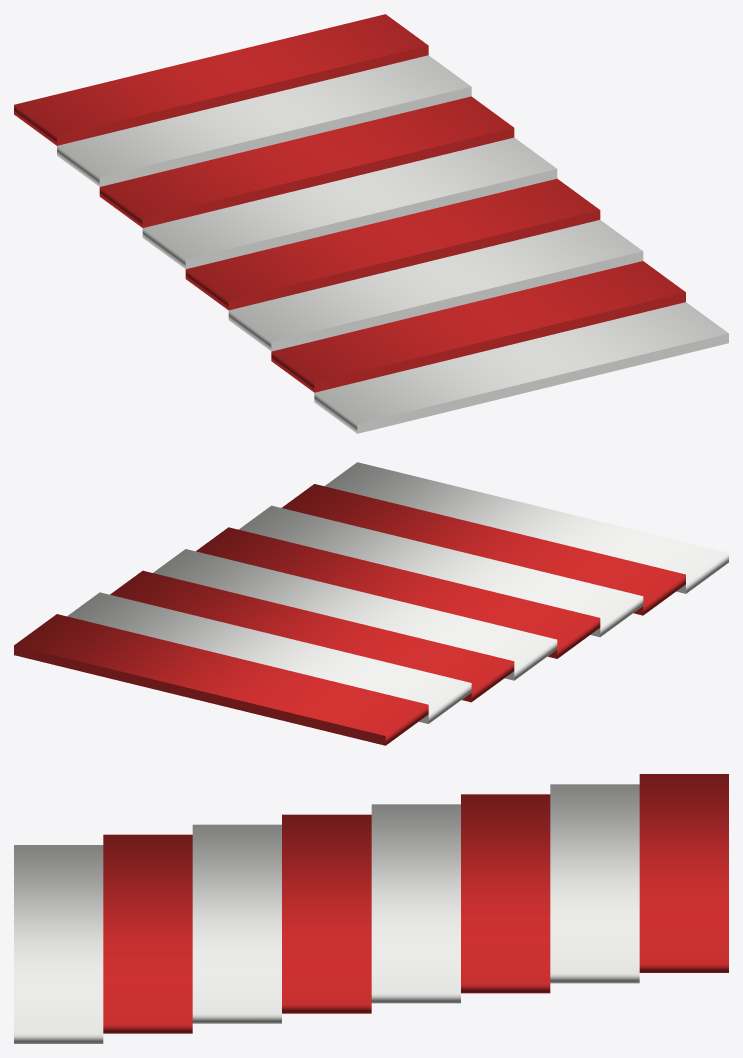
3 views of the same model, one above another, from view 1: azimuth 30°, elevation 25°; view 2: azimuth 150°, elevation 25°; view 3: azimuth 270°, elevation 25° (orthographic). The views are drawn at different scales.
Visible parts, largest first — view 1: XK4_b3000, XK4_b4000, XK4_b2000, XK4_b5000, XK4_b00, XK4_b1000, XK4_b6000, XK4_b7000; view 2: XK4_b00, XK4_b1000, XK4_b3000, XK4_b4000, XK4_b5000, XK4_b2000, XK4_b7000, XK4_b6000; view 3: XK4_b1000, XK4_b4000, XK4_b6000, XK4_b2000, XK4_b3000, XK4_b5000, XK4_b00, XK4_b7000.
Boxes of the visible parts, box(x1,y1,x2,y2) form: XK4_b3000: box(142, 137, 557, 269); XK4_b4000: box(185, 178, 600, 310); XK4_b2000: box(99, 96, 514, 227); XK4_b5000: box(228, 220, 643, 351); XK4_b00: box(14, 14, 428, 145); XK4_b1000: box(57, 55, 471, 186); XK4_b6000: box(271, 261, 685, 392); XK4_b7000: box(314, 302, 728, 433); XK4_b00: box(14, 614, 428, 745); XK4_b1000: box(67, 592, 471, 723); XK4_b3000: box(153, 549, 557, 680); XK4_b4000: box(196, 527, 600, 658); XK4_b5000: box(239, 505, 643, 637); XK4_b2000: box(110, 570, 514, 702); XK4_b7000: box(325, 462, 728, 593); XK4_b6000: box(282, 484, 685, 615); XK4_b1000: box(550, 784, 639, 983); XK4_b4000: box(282, 814, 371, 1013); XK4_b6000: box(103, 834, 192, 1033); XK4_b2000: box(461, 794, 550, 993); XK4_b3000: box(371, 804, 460, 1003); XK4_b5000: box(192, 824, 281, 1023); XK4_b00: box(639, 774, 728, 972); XK4_b7000: box(14, 845, 103, 1043).
Bounding box in the file's own units: 2 × 0.4 × 3.2.
